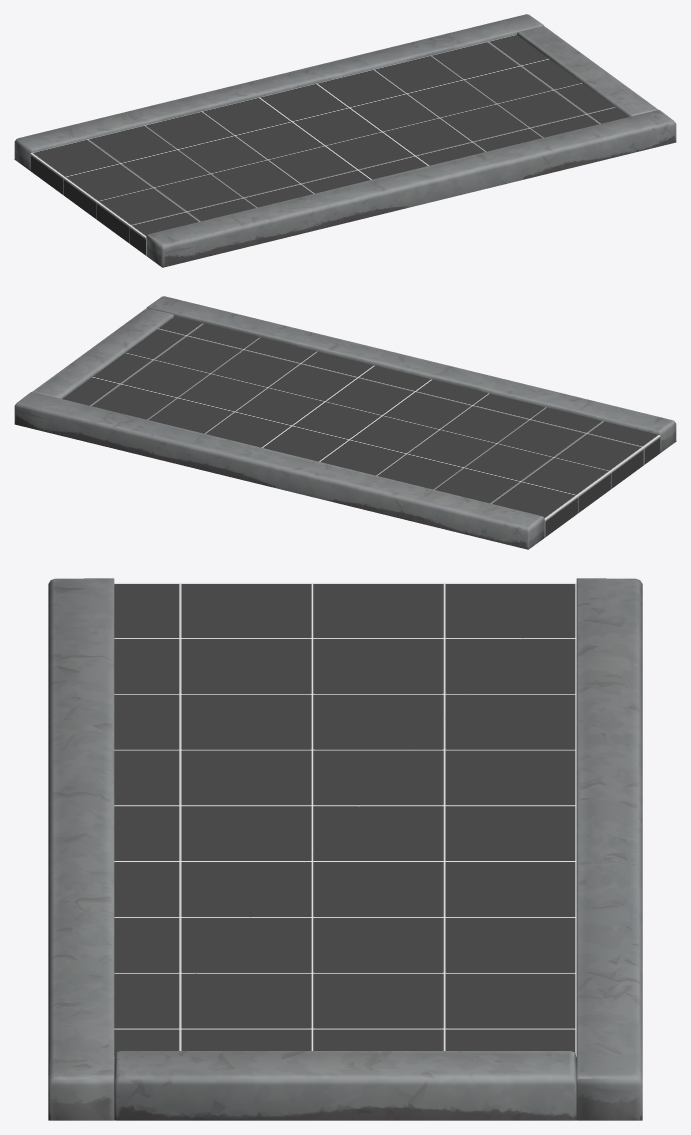
Rendered from M02SideWalk03_9.FBX.
3 renders of one model, top to bottom at view 1: azimuth 30°, elevation 25°; view 2: azimuth 150°, elevation 25°; view 3: azimuth 270°, elevation 25°, orthographic. The views are drawn at different scales.
Parts seen in each view (by area): view 1: M02SideWalk03_9; view 2: M02SideWalk03_9; view 3: M02SideWalk03_9.
Part boxes in pixels (box(x1,y1,x2,y2)): M02SideWalk03_9: box(14, 14, 676, 267); M02SideWalk03_9: box(14, 296, 676, 549); M02SideWalk03_9: box(48, 578, 642, 1120).
Size of what is drawn, in the model's own units: 4.5 by 0.1783 by 2.25.
